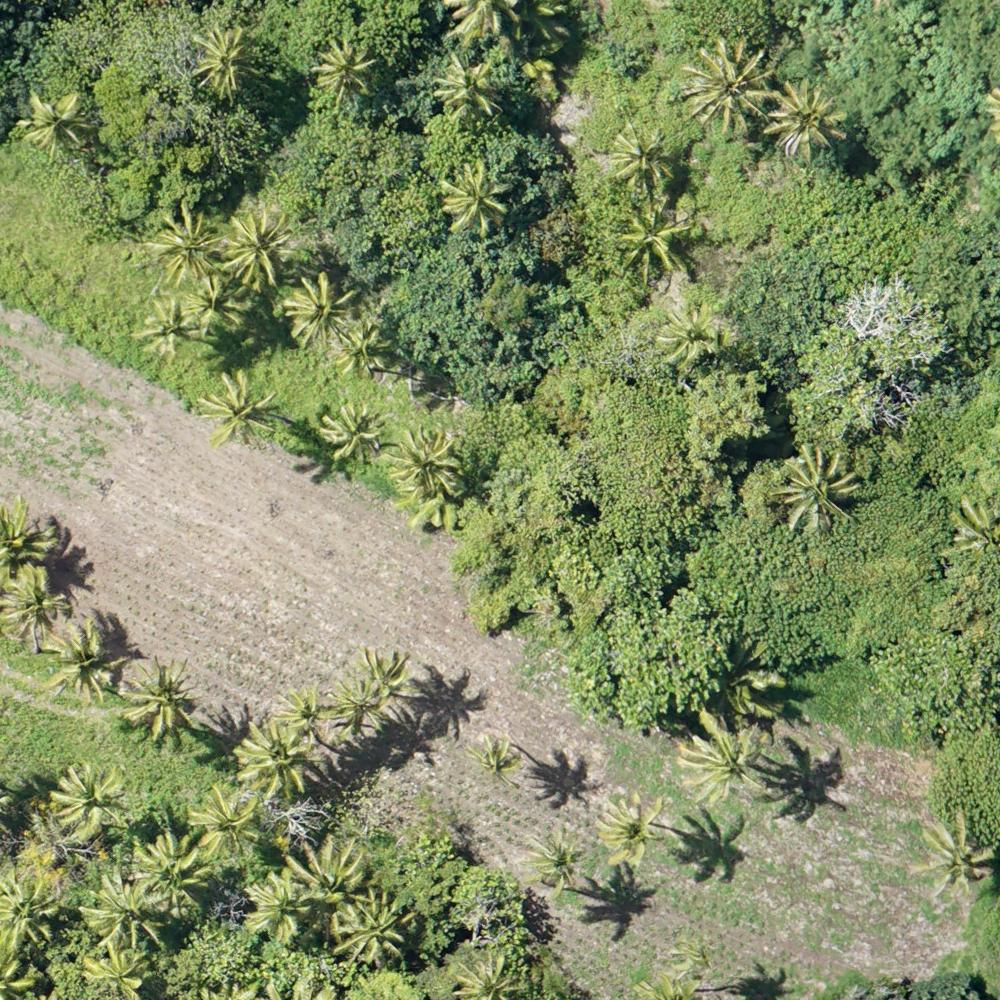Palm: (680, 39, 778, 132), (678, 714, 766, 802), (915, 809, 1000, 895), (130, 828, 211, 918), (87, 873, 173, 952), (220, 210, 299, 295), (284, 831, 369, 910), (235, 718, 315, 800), (119, 658, 195, 744), (197, 369, 276, 450), (780, 448, 859, 528), (431, 159, 514, 235), (765, 83, 846, 159), (1, 564, 70, 649), (335, 891, 415, 964), (187, 782, 258, 863), (615, 202, 692, 276), (39, 624, 116, 698), (50, 767, 128, 840), (16, 88, 90, 164), (387, 427, 463, 501), (242, 868, 312, 944), (152, 204, 220, 282), (282, 272, 354, 345), (187, 29, 258, 96), (593, 798, 661, 865), (184, 276, 256, 339), (307, 36, 376, 101), (434, 55, 501, 121), (525, 825, 588, 895), (317, 400, 384, 462), (606, 123, 673, 184), (1, 885, 57, 955), (658, 299, 724, 358), (325, 676, 386, 736), (272, 682, 336, 736), (143, 294, 200, 354), (351, 646, 407, 701), (84, 948, 146, 997), (332, 328, 388, 378), (468, 736, 520, 784)
